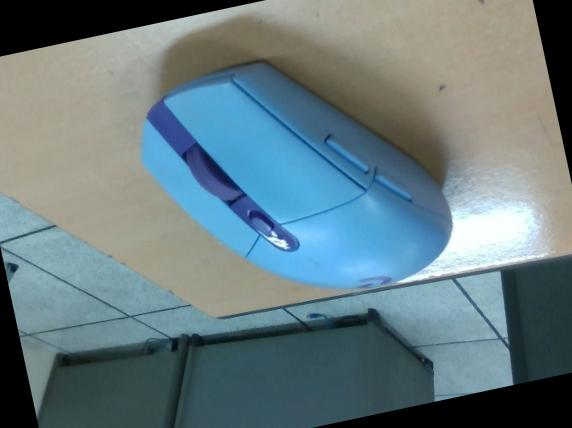mouse: (140, 59, 455, 293)
